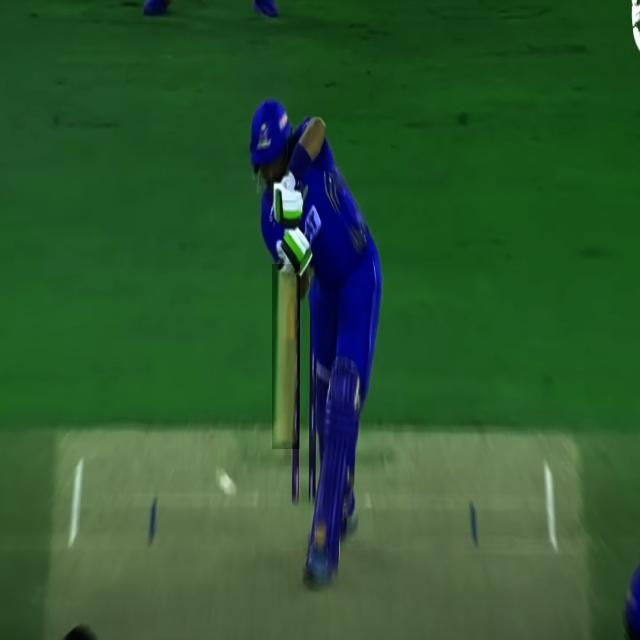bat: (272, 259, 300, 450)
toe: (271, 440, 299, 450)
